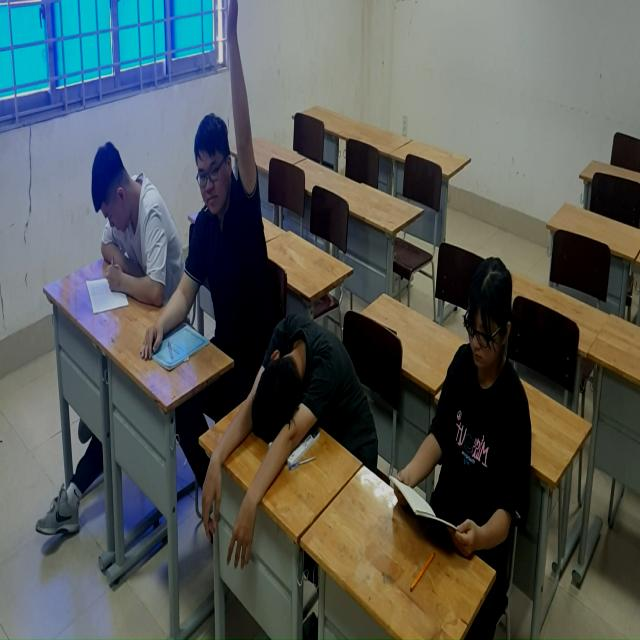raise_hand: (183, 1, 278, 332)
read: (390, 249, 538, 583), (83, 116, 184, 334)
sleep: (201, 308, 381, 558)
